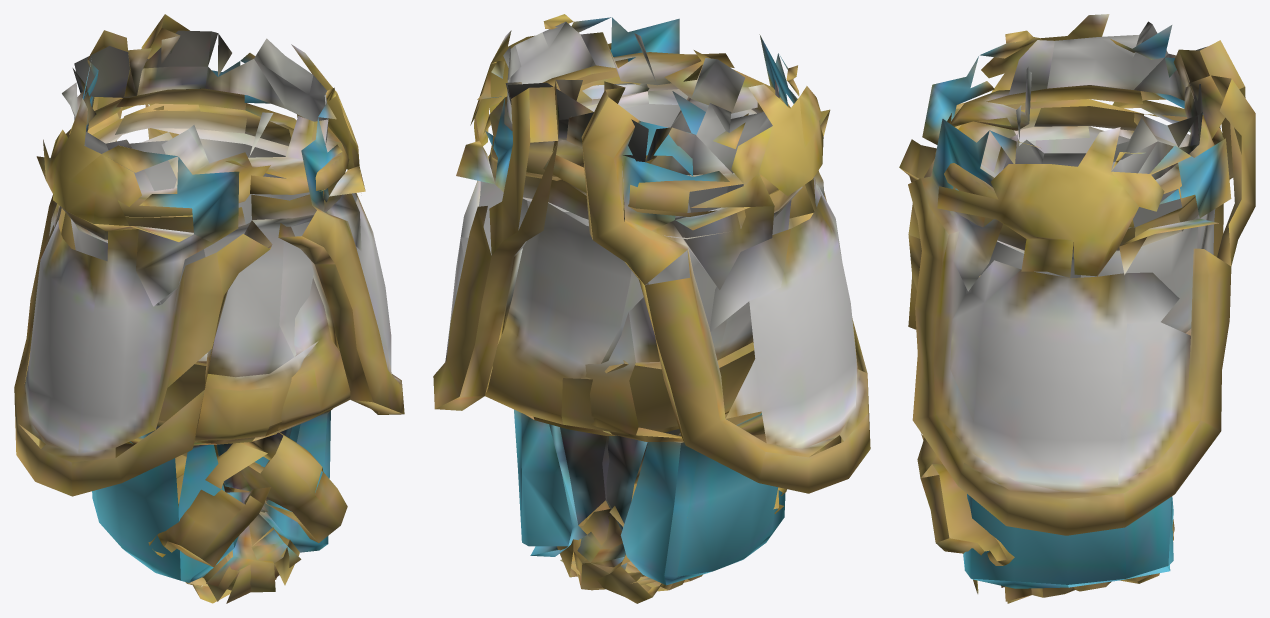
Rendered from tenkai_gauntlets.glb.
3 renders of one model, left to right at view 1: azimuth 30°, elevation 25°; view 2: azimuth 150°, elevation 25°; view 3: azimuth 270°, elevation 25°, orthographic. The views are drawn at different scales.
Visible parts, largest first — view 1: gauntlet_R, gauntlet_L; view 2: gauntlet_R, gauntlet_L; view 3: gauntlet_L, gauntlet_R.
Part boxes in pixels (x1,y1,x2,y2): gauntlet_R: [14, 30, 349, 592]; gauntlet_L: [61, 14, 404, 603]; gauntlet_R: [483, 21, 870, 590]; gauntlet_L: [433, 14, 802, 603]; gauntlet_L: [908, 21, 1255, 588]; gauntlet_R: [899, 14, 1245, 603].
Bounding box in the file's own units: 0.3707 × 0.5063 × 0.3063.
Materials: 1 (1 with a texture image).
